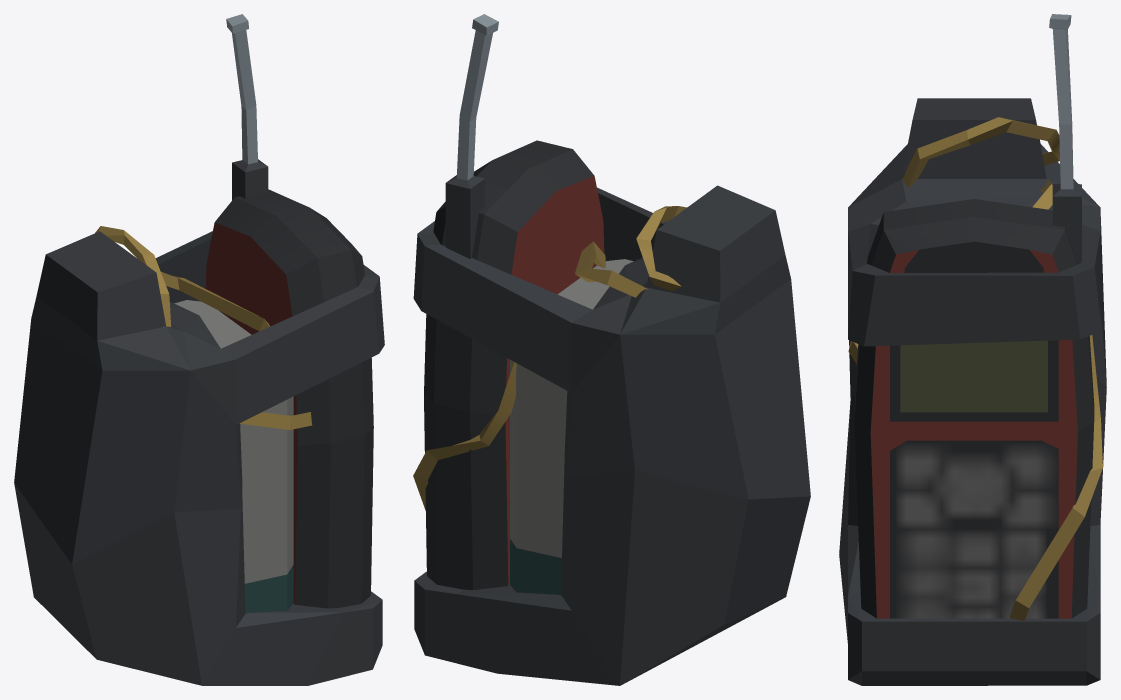
File: SM_Prop_IED_08.fbx
3 renders of one model, left to right at view 1: azimuth 30°, elevation 25°; view 2: azimuth 150°, elevation 25°; view 3: azimuth 270°, elevation 25°, orthographic. The views are drawn at different scales.
Parts seen in each view (by area): view 1: SM_Prop_IED_08; view 2: SM_Prop_IED_08; view 3: SM_Prop_IED_08.
Part boxes in pixels (bbox=[...]): SM_Prop_IED_08: bbox=[14, 14, 384, 685]; SM_Prop_IED_08: bbox=[413, 14, 810, 685]; SM_Prop_IED_08: bbox=[839, 14, 1106, 685].
Bounding box in the file's own units: 12.38 × 23.95 × 8.94.
